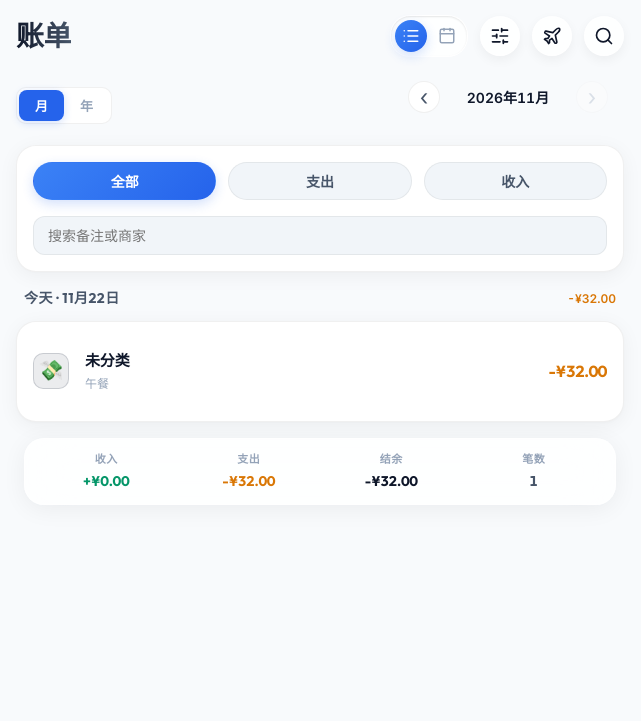
Test: TransactionsPage 长按删除 › 删除接口失败时交易回到列表并提示错误
Press the mouse on the text "午餐": {"x": 51, "y": 371} [33, 351, 607, 390]
Wait 5700 ms
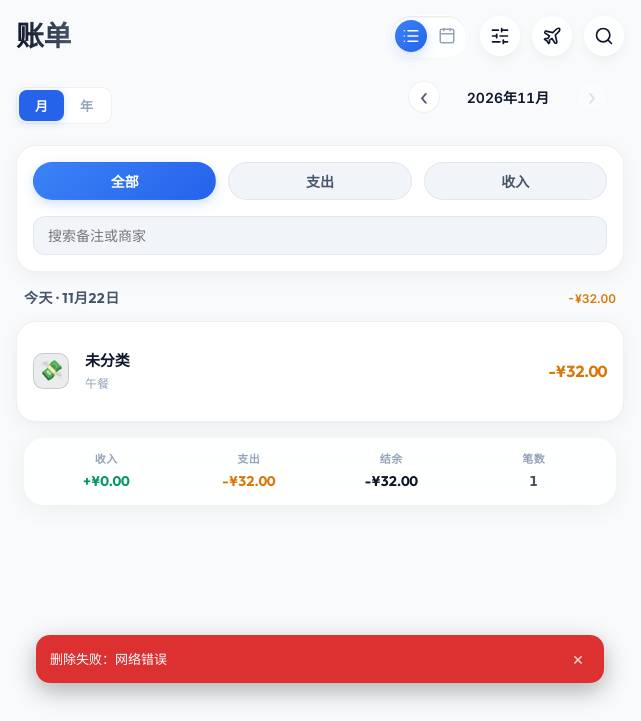
Expected: the text "午餐" is shown, [85, 376, 109, 390]
Expected: the text "删除失败：网络错误" is shown, [50, 651, 167, 667]
